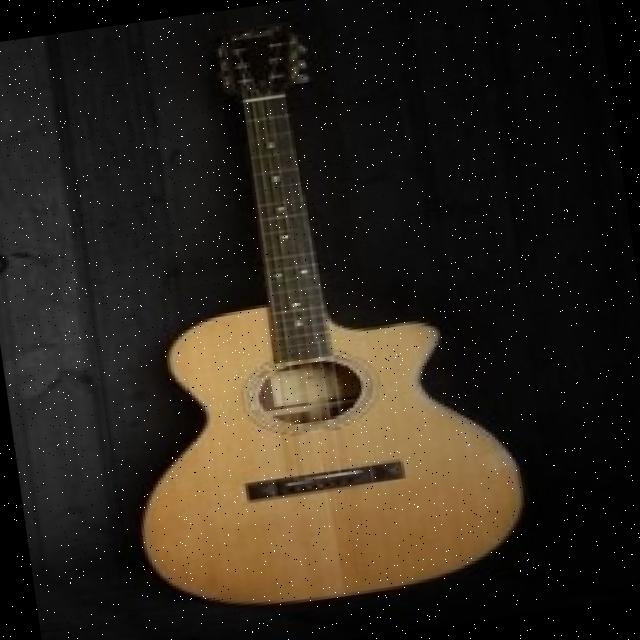guitar: (71, 0, 538, 625)
